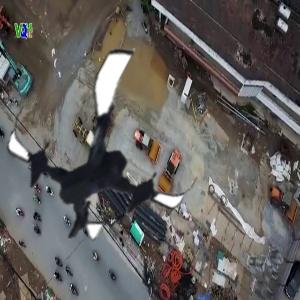drone: (4, 47, 209, 252)
